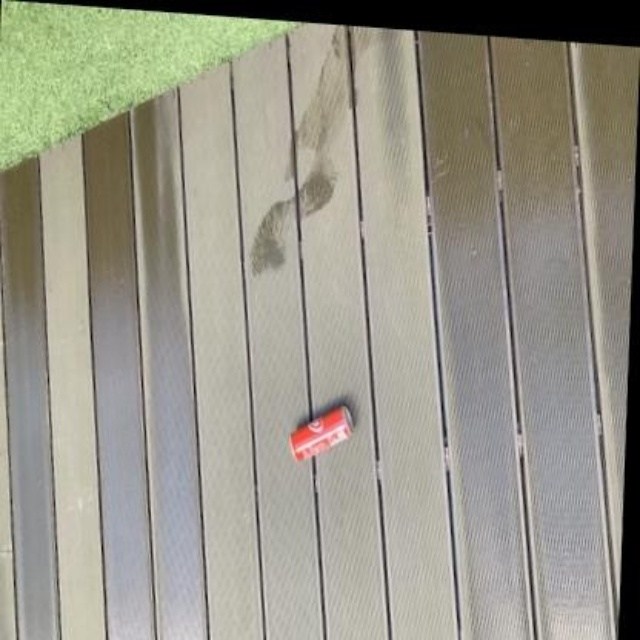trash: (289, 406, 351, 460)
